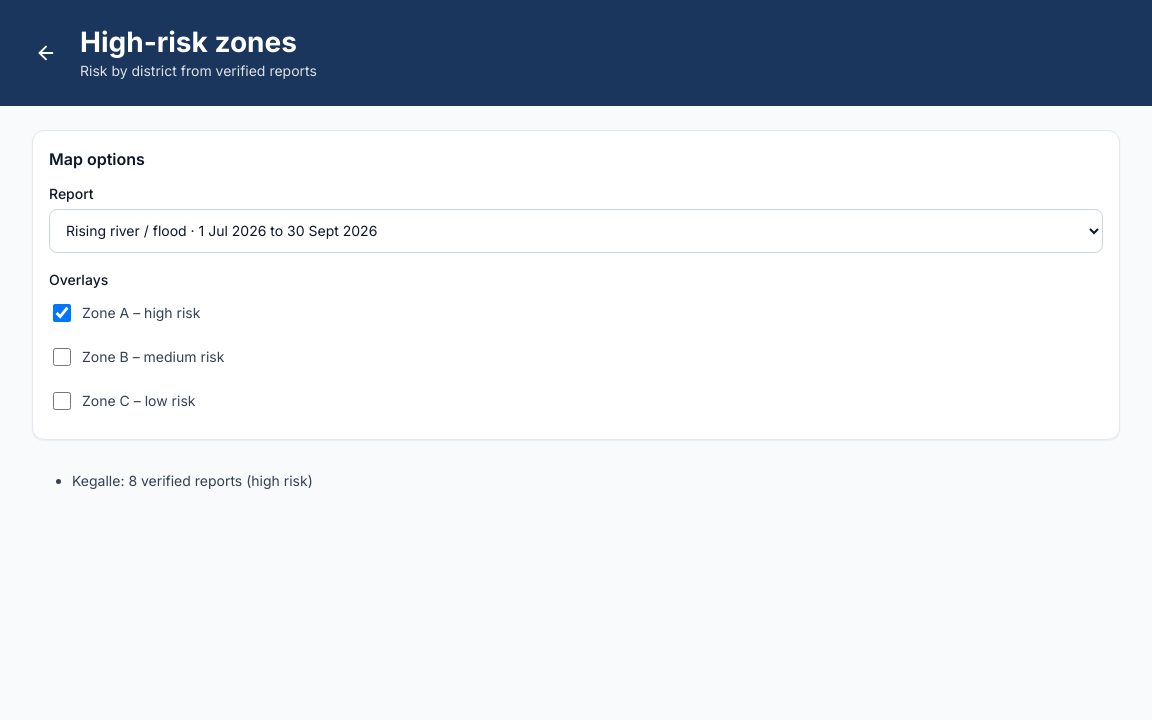
Test: High-risk zones (hi-fi map-view-high-risk-zones) › should say so when no overlay is selected
Expected: the list named "Map of high-risk zones" is shown, [72,472,313,489]
Click the checkbox labelled "Zone A – high risk".
click(62, 313)  # box [53,304,71,322]
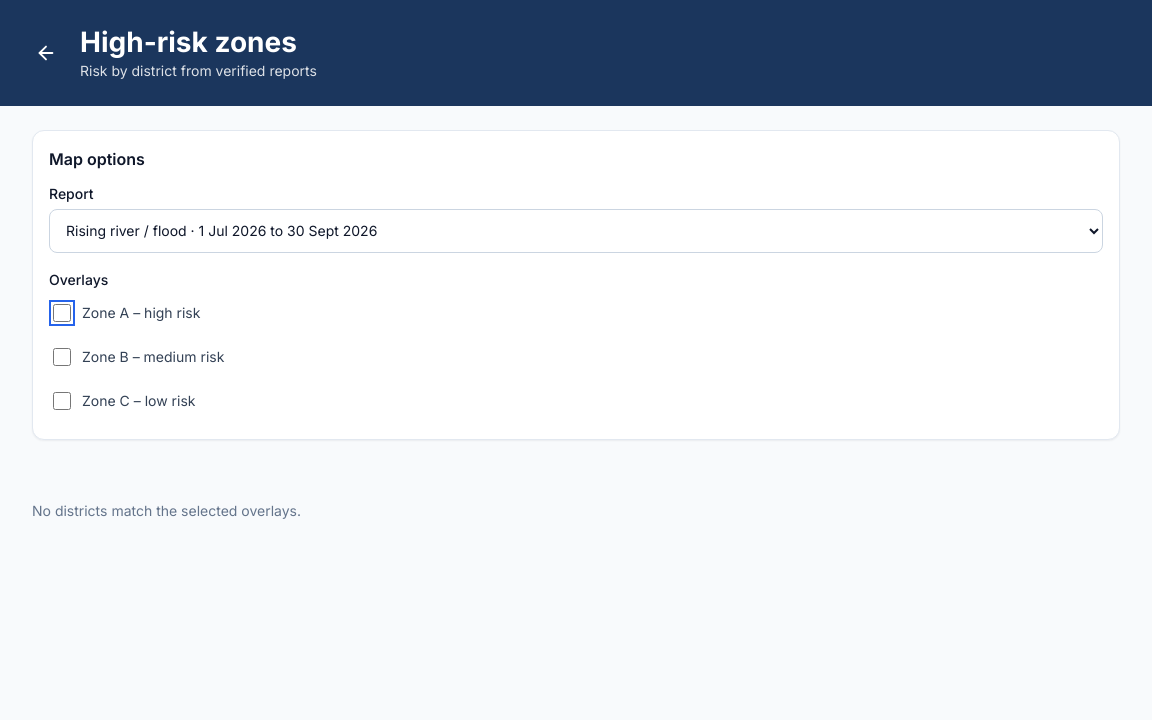
Now the text "No districts match the selected overlays." is shown, box [32,502,301,519]
